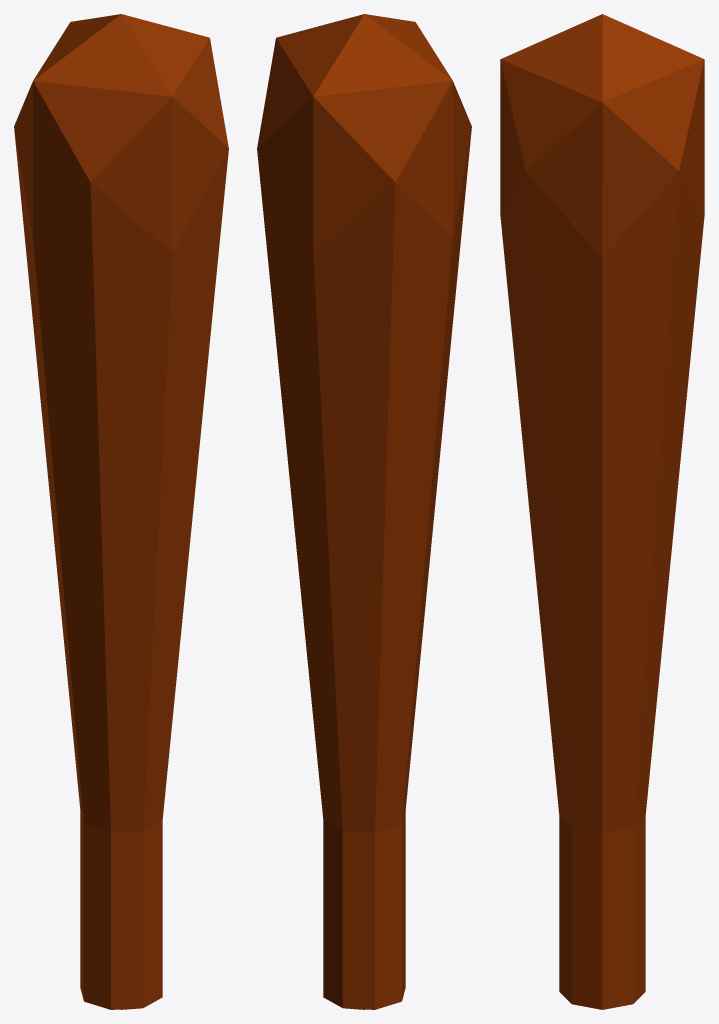
The model's file is Club.fbx.
3 renders of one model, left to right at view 1: azimuth 30°, elevation 25°; view 2: azimuth 150°, elevation 25°; view 3: azimuth 270°, elevation 25°, orthographic.
Visible parts, largest first — view 1: Cube; view 2: Cube; view 3: Cube.
Boxes of the visible parts, x1=… form: Cube: x1=14, y1=14, x2=228, y2=1009; Cube: x1=257, y1=14, x2=471, y2=1009; Cube: x1=500, y1=14, x2=704, y2=1009.
Bounding box in the file's own units: 471 × 2536 × 471.
